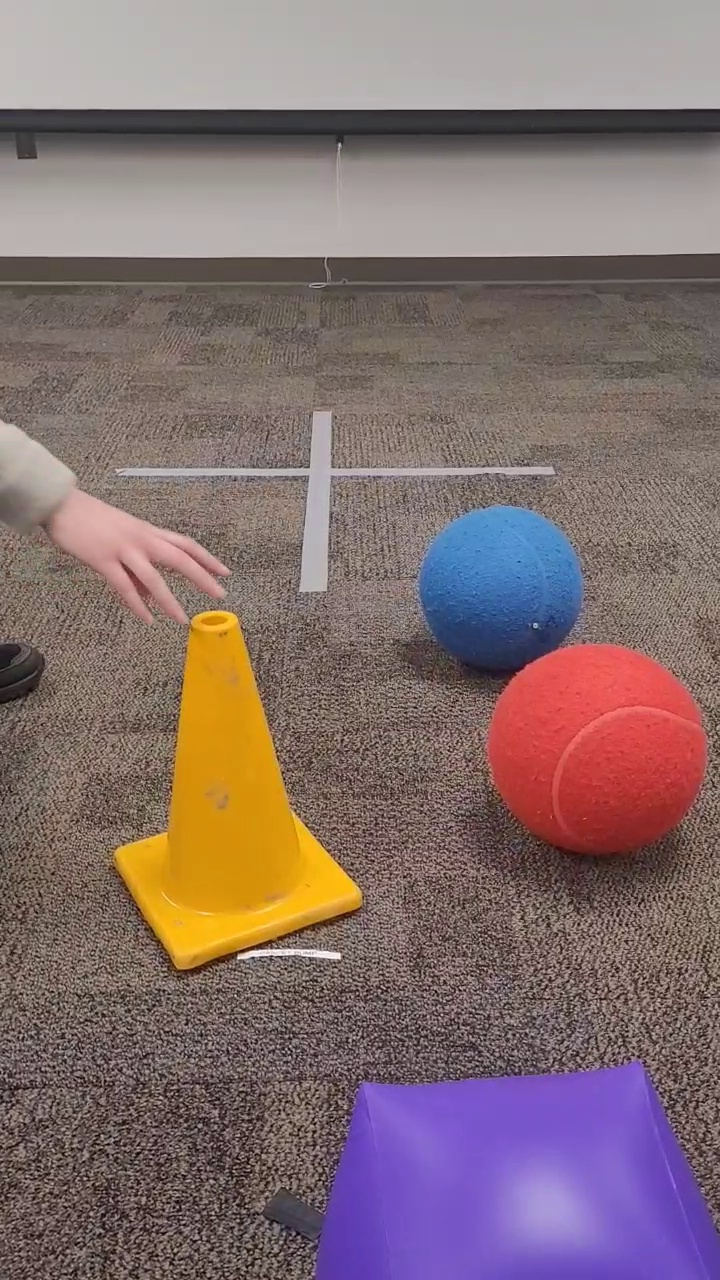ball: (486, 641, 710, 860), (418, 502, 586, 674)
cone: (109, 606, 367, 975)
cube: (310, 1060, 720, 1279)
foot: (1, 631, 52, 710)
hand: (1, 414, 232, 631)
